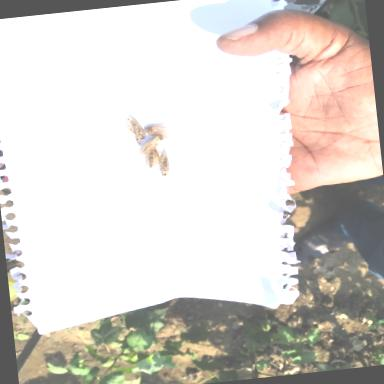abw: (117, 109, 148, 143), (134, 134, 167, 161), (143, 121, 174, 142), (141, 146, 162, 172), (156, 150, 172, 177)
